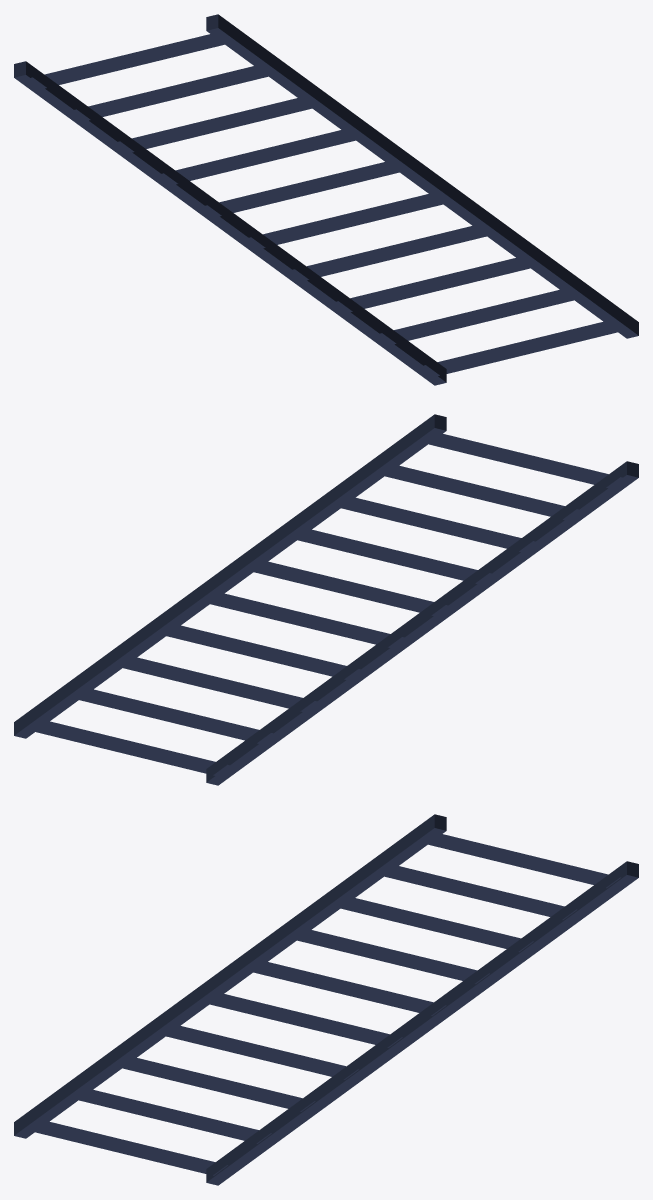
File: Rails.glb
3 renders of one model, top to bottom at view 1: azimuth 30°, elevation 25°; view 2: azimuth 150°, elevation 25°; view 3: azimuth 330°, elevation 25°, orthographic.
Visible parts, largest first — view 1: Rails; view 2: Rails; view 3: Rails.
Part boxes in pixels (bbox=[...]): Rails: bbox=[14, 14, 638, 385]; Rails: bbox=[14, 414, 638, 785]; Rails: bbox=[14, 814, 638, 1185].
Bounding box in the file's own units: 0.9802 × 0.0628 × 3.5.
